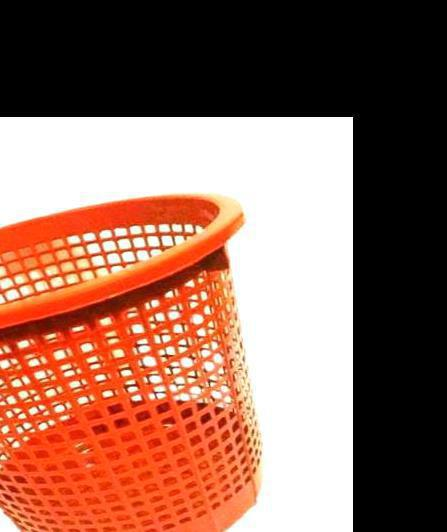Bote de Basura: (0, 189, 256, 532)
